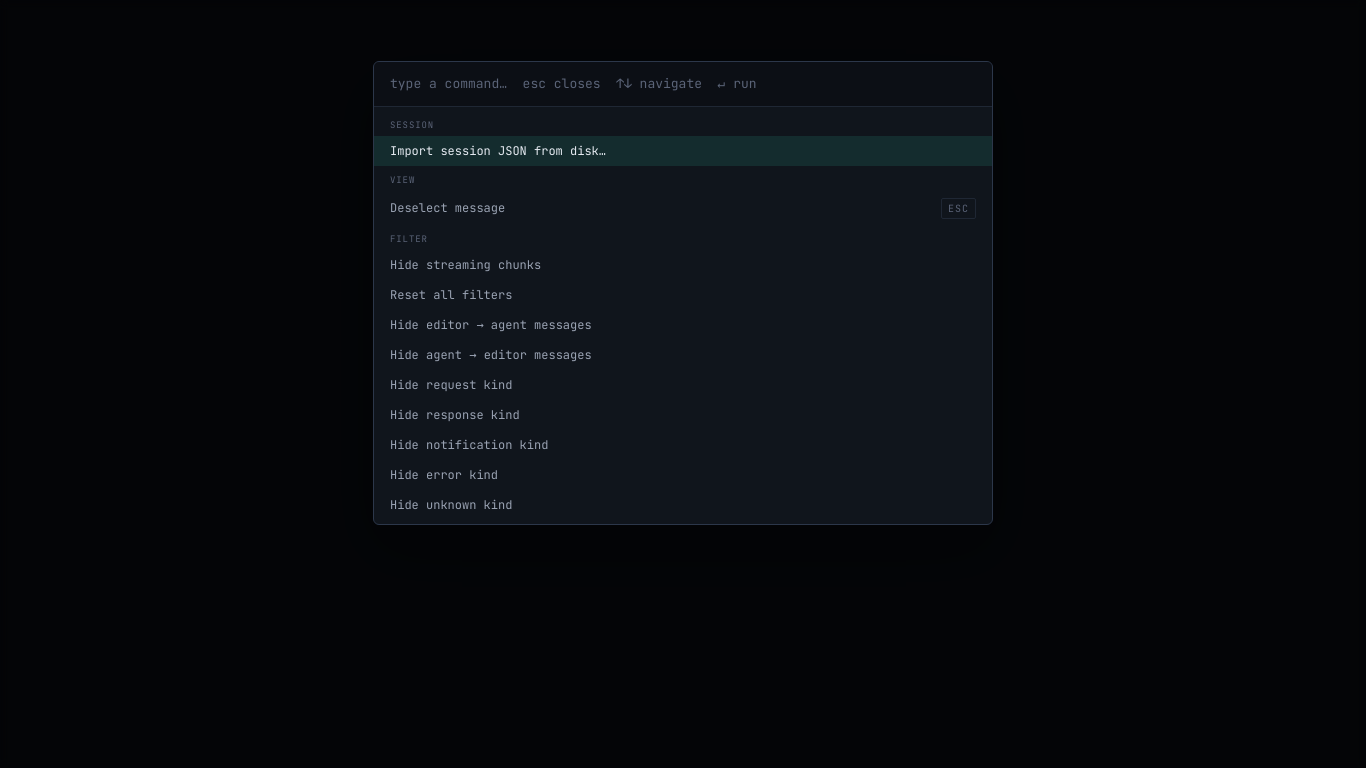
Scenario: CommandPalette › fuzzy-filters commands by every token
Type "reset filters" into the field with placeholder "type a command… esc closes ↑↓ navigate ↵ run". click: (683, 84)
box: [374,62,992,106]
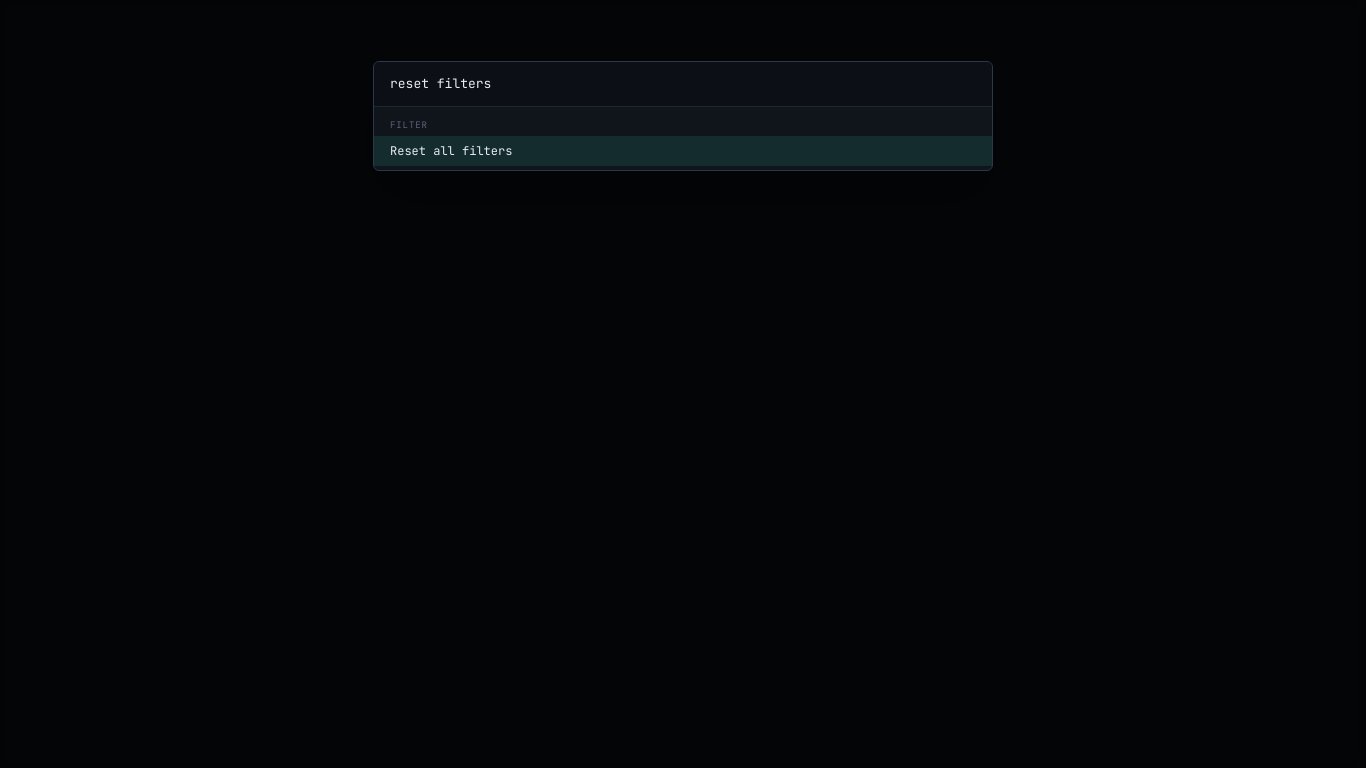
Expected: the text "Reset all filters" is shown, [390,142,512,160]
Now the button "Deselect message" is gone
